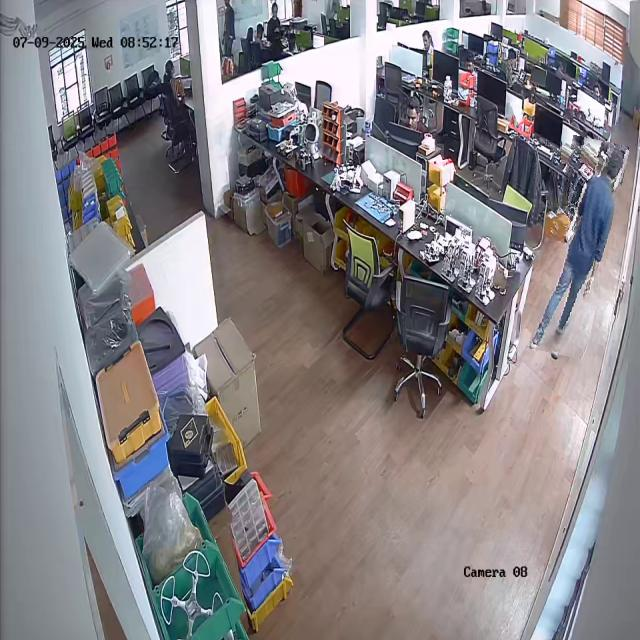person: (539, 137, 619, 358)
